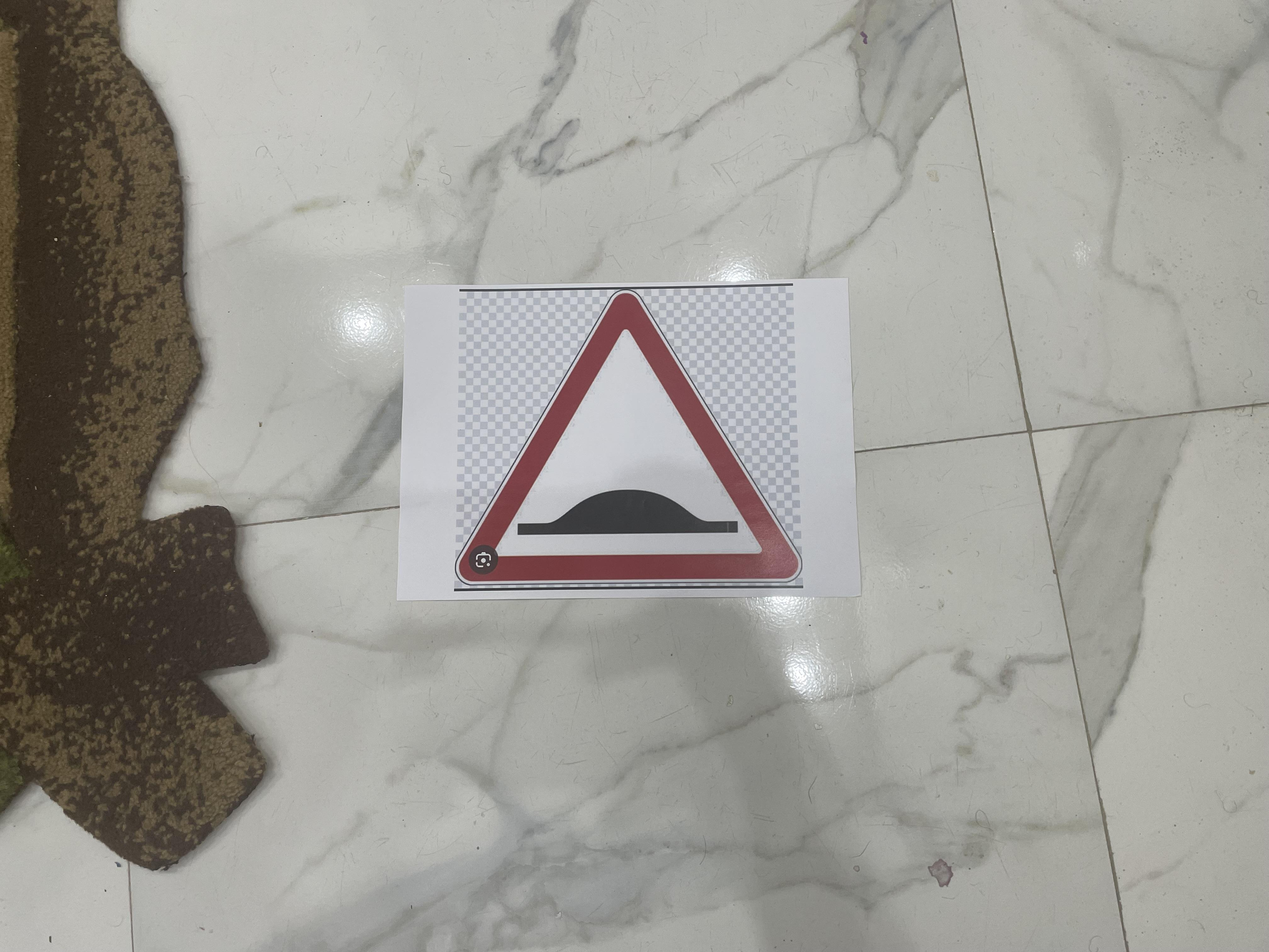Hump: (388, 343, 802, 611)
